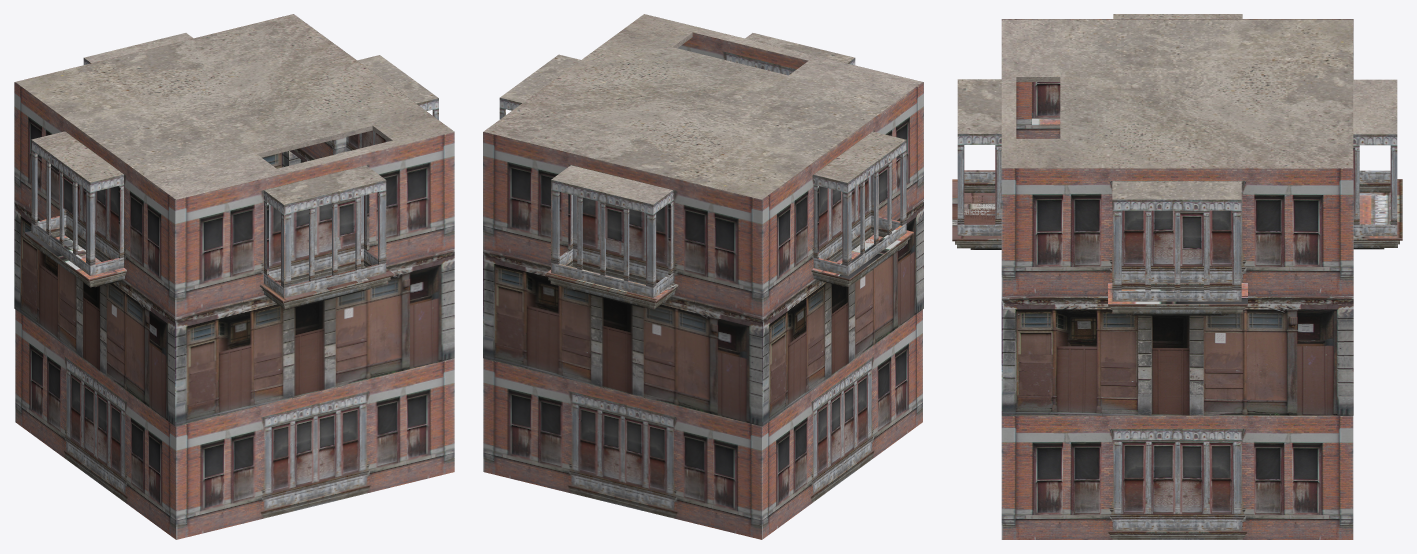
File: BagBuilding7_70.fbx
3 views of the same model, side by side, from view 1: azimuth 30°, elevation 25°; view 2: azimuth 150°, elevation 25°; view 3: azimuth 270°, elevation 25° (orthographic). The views are drawn at different scales.
Parts seen in each view (by area): view 1: Box70, main70, roof70; view 2: Box70, main70, roof70; view 3: Box70, main70, roof70.
Boxes of the visible parts, left/top/right/bottom form: Box70: left=14, top=14, right=454, bottom=426; main70: left=15, top=58, right=454, bottom=539; roof70: left=15, top=14, right=454, bottom=204; Box70: left=483, top=82, right=923, bottom=426; main70: left=483, top=32, right=922, bottom=539; roof70: left=483, top=14, right=922, bottom=204; Box70: left=1001, top=19, right=1353, bottom=415; main70: left=952, top=82, right=1402, bottom=539; roof70: left=957, top=14, right=1397, bottom=199.
Bounding box in the file's own units: 24.4 × 22.23 × 24.4.
